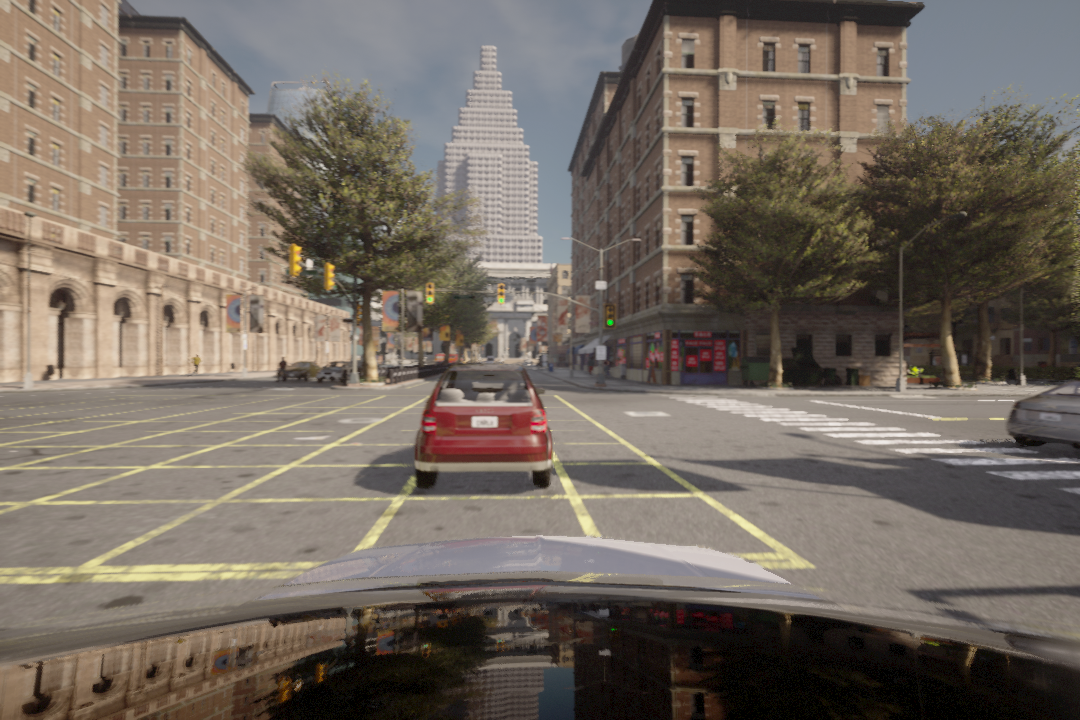TrafficLight: (424, 281, 437, 307), (494, 281, 507, 304), (604, 306, 617, 329)
walkside: (672, 394, 1080, 509)
